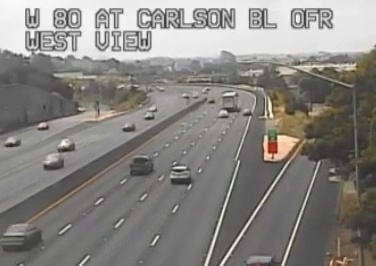car: (1, 223, 41, 250), (129, 156, 152, 173), (170, 166, 190, 181)
